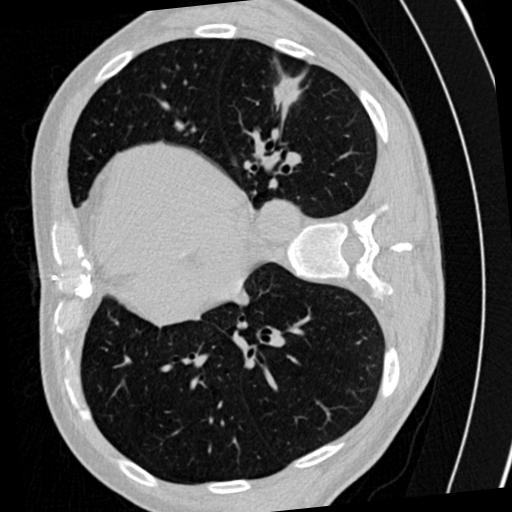nodule: (266, 72, 308, 114)
